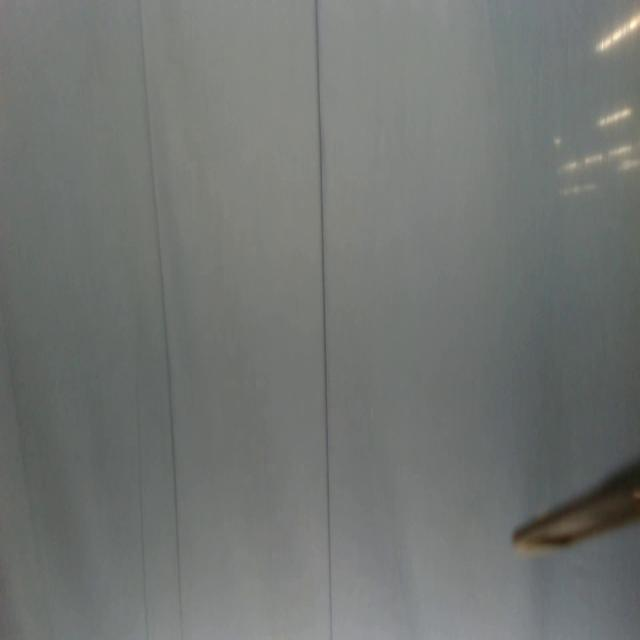crease: (138, 0, 186, 640), (312, 0, 335, 639), (135, 440, 151, 640)
